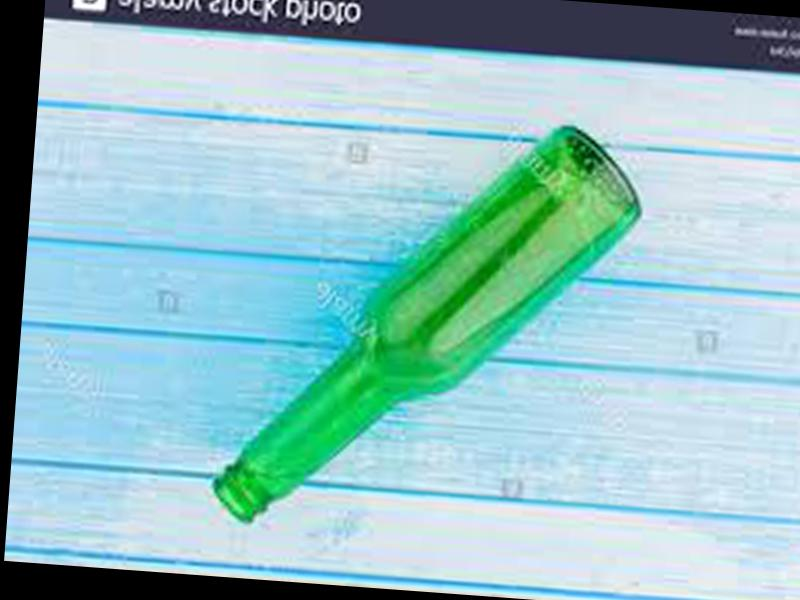Beer: (206, 94, 652, 552)
